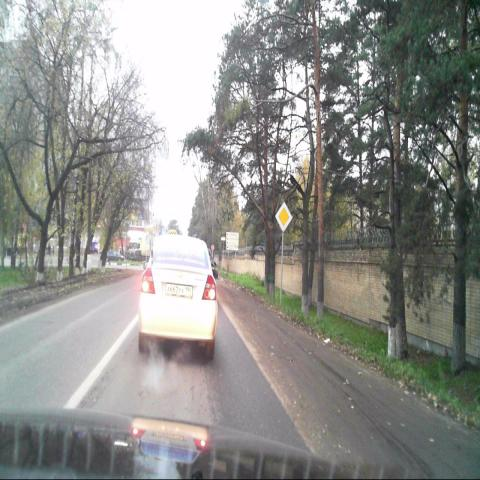2_1: (276, 201, 292, 231)
